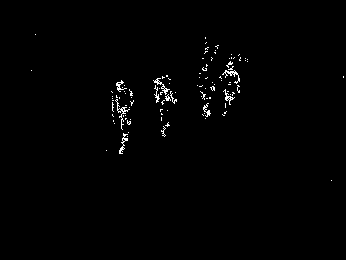person: (111, 80, 135, 155), (154, 75, 178, 137), (218, 61, 241, 116), (197, 66, 215, 118)
